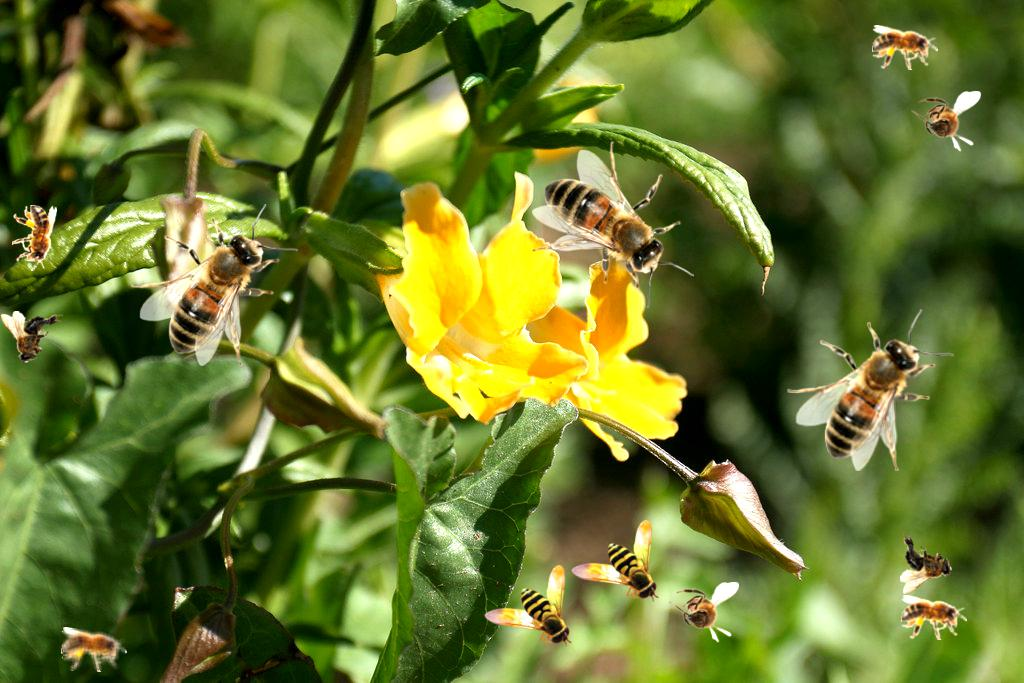Bee: (787, 309, 954, 471), (131, 204, 298, 366), (532, 141, 694, 308), (571, 520, 659, 602), (484, 565, 572, 647), (669, 582, 739, 643), (911, 91, 981, 152), (1, 311, 63, 364), (900, 532, 953, 594), (872, 25, 938, 70), (12, 205, 57, 271), (901, 595, 967, 640), (61, 627, 127, 672)
